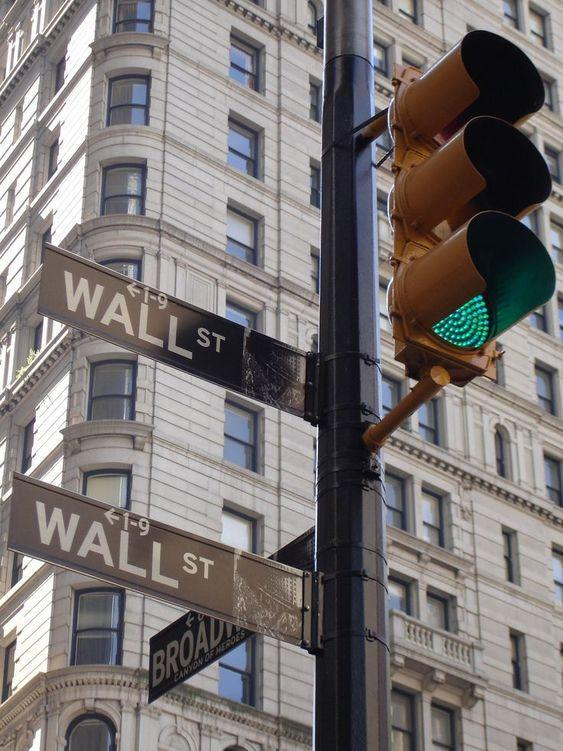green: (356, 12, 563, 398)
